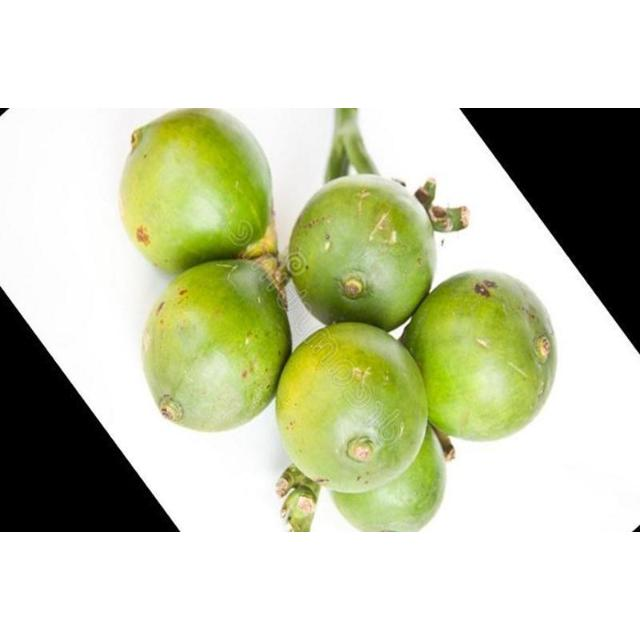good: (142, 258, 292, 434), (402, 272, 556, 442), (276, 323, 430, 492), (121, 108, 275, 276), (286, 175, 439, 332)
